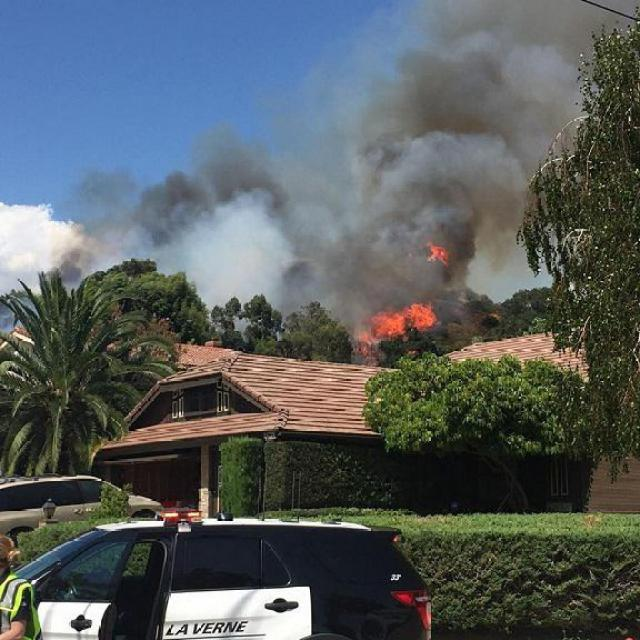Fire: (331, 296, 436, 344), (426, 241, 452, 268)
